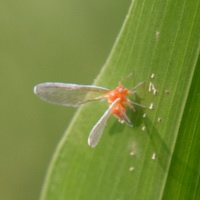insect: (34, 81, 144, 146)
